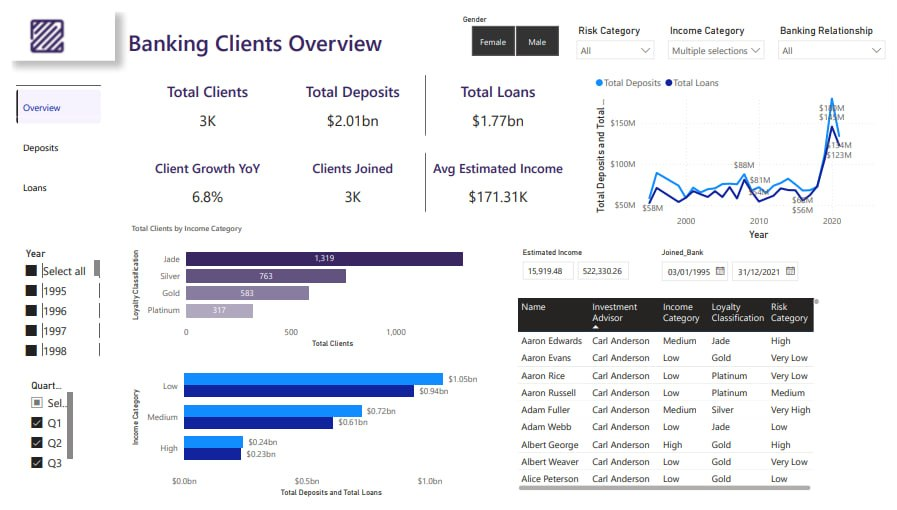

Layout of this report page (visuals, bound fields, positions):
{"tool":"powerbi","page":{"name":"Overview","canvas":[1280,720],"ordinal":0},"visuals":[{"type":"textbox","box":[150,0,1130,73.3],"z":0},{"type":"shape","box":[0,82.9,150,628.6],"z":1000},{"type":"cardVisual","fields":{"Data":["final_data.Total_Clients","final_data.Total_Deposits","final_data.Total_Loans"]},"box":[167.5,80,657.5,112.5],"z":2000},{"type":"pageNavigator","box":[5.7,105.7,125.7,174.3],"z":3000},{"type":"actionButton","box":[0,153.3,150,40],"z":4000},{"type":"actionButton","box":[5.7,192.9,125.7,40],"z":5000},{"type":"cardVisual","fields":{"Data":["final_data.Client Growth YoY","final_data.Clients Joined (Selected Period)","final_data.Avg Estimated Income"]},"box":[167.5,192.5,657.5,110],"z":6000},{"type":"clusteredBarChart","title":"Total Clients by Income Category","fields":{"Category":["final_data.Loyalty_Classification"],"Y":["final_data.Total_Clients"]},"box":[168.6,301.4,532.9,192.9],"z":7000},{"type":"clusteredBarChart","title":"Total Clients by Income Category","fields":{"Category":["final_data.IncomeCategory"],"Y":["final_data.Total_Deposits","final_data.Total_Loans"]},"box":[170,494,532,216],"z":8000},{"type":"lineChart","fields":{"Y":["final_data.Total_Deposits","final_data.Total_Loans"],"Category":["DimDate.Year"]},"box":[842.9,82.9,420,254.3],"z":9000},{"type":"tableEx","fields":{"Values":["final_data.Name","final_data.Investment_Advisor","final_data.IncomeCategory","final_data.Loyalty_Classification","final_data.RiskCategory"]},"box":[730,391.4,550,290],"z":10000},{"type":"slicer","fields":{"Values":["final_data.Estimated_Income"]},"box":[730,330,188.6,61.4],"z":11000},{"type":"slicer","fields":{"Values":["final_data.Gender"]},"box":[668,12,138,60],"z":12000},{"type":"slicer","fields":{"Values":["DimDate.Year"]},"box":[8.3,338.3,125,166.7],"z":13000},{"type":"slicer","fields":{"Values":["DimDate.Quarter"]},"box":[15.7,530,78.6,147.1],"z":14000},{"type":"slicer","fields":{"Values":["final_data.RiskCategory"]},"box":[806,14,132,60],"z":15000},{"type":"slicer","fields":{"Values":["final_data.IncomeCategory"]},"box":[938,14,160,58],"z":16000},{"type":"slicer","fields":{"Values":["final_data.Banking_Relationship"]},"box":[1104,14,176,60],"z":17000},{"type":"shape","box":[0,0,150,72.5],"z":17001},{"type":"actionButton","box":[15.7,0,84.3,72.9],"z":17002}]}

Visuals, with their boxes in screenshot pixels (x1, y1, x2, y2), scaled from the page's 1280x720 canvas onto the 897x510 screenshot:
textbox: (x1=105, y1=0, x2=896, y2=52)
shape: (x1=0, y1=59, x2=105, y2=504)
cardVisual - final_data.Total_Clients x final_data.Total_Deposits: (x1=117, y1=57, x2=578, y2=136)
pageNavigator: (x1=4, y1=75, x2=92, y2=198)
actionButton: (x1=0, y1=109, x2=105, y2=137)
actionButton: (x1=4, y1=137, x2=92, y2=165)
cardVisual - final_data.Client Growth YoY x final_data.Clients Joined (Selected Period): (x1=117, y1=136, x2=578, y2=214)
"Total Clients by Income Category" clusteredBarChart: (x1=118, y1=213, x2=492, y2=350)
"Total Clients by Income Category" clusteredBarChart: (x1=119, y1=350, x2=492, y2=503)
lineChart - final_data.Total_Deposits x final_data.Total_Loans: (x1=591, y1=59, x2=885, y2=239)
tableEx - final_data.Name x final_data.Investment_Advisor: (x1=512, y1=277, x2=896, y2=483)
slicer - final_data.Estimated_Income: (x1=512, y1=234, x2=644, y2=277)
slicer - final_data.Gender: (x1=468, y1=8, x2=565, y2=51)
slicer - DimDate.Year: (x1=6, y1=240, x2=93, y2=358)
slicer - DimDate.Quarter: (x1=11, y1=375, x2=66, y2=480)
slicer - final_data.RiskCategory: (x1=565, y1=10, x2=657, y2=52)
slicer - final_data.IncomeCategory: (x1=657, y1=10, x2=769, y2=51)
slicer - final_data.Banking_Relationship: (x1=774, y1=10, x2=896, y2=52)
shape: (x1=0, y1=0, x2=105, y2=51)
actionButton: (x1=11, y1=0, x2=70, y2=52)
